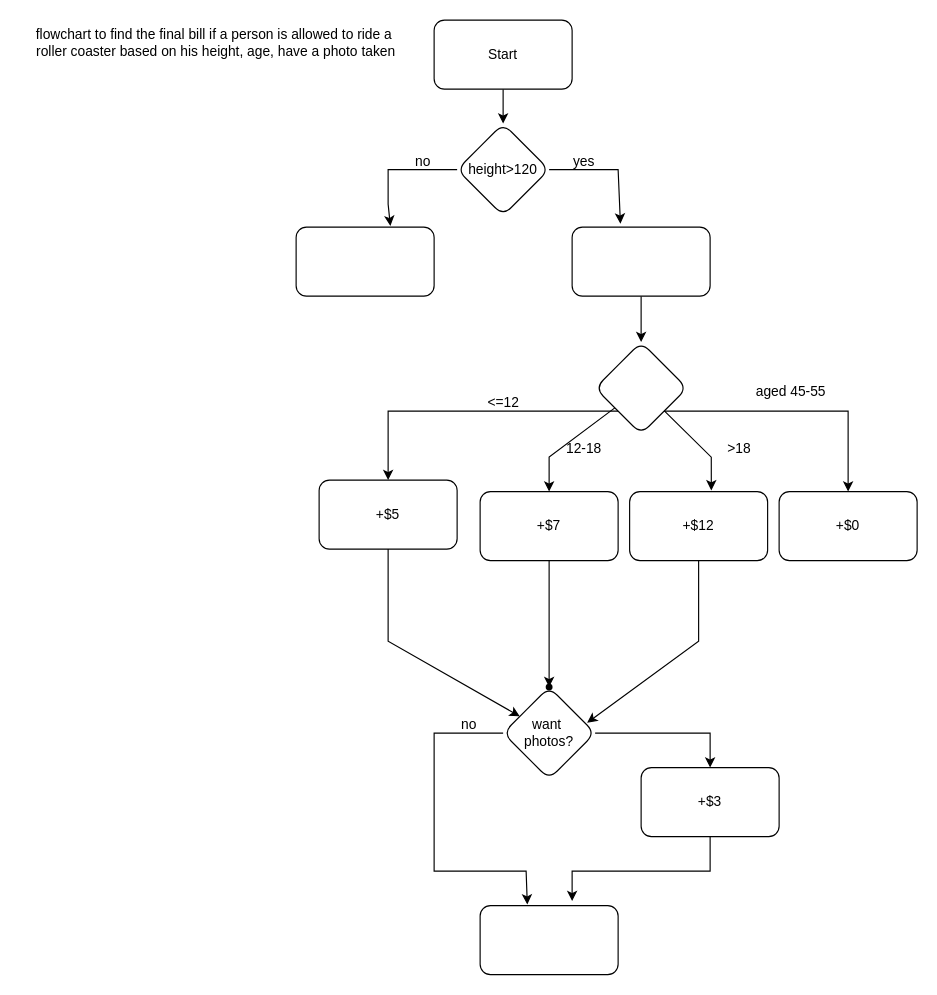
Image size: 937x995. Some labels were removed from this diagram. Here are the shapes that lost their labels. From the top down, the centre of each, then its label:
At (364,261): "you can't ride".
At (640,261): "you can ride".
At (640,387): "age".
At (548,939): "total bill is: $x".
